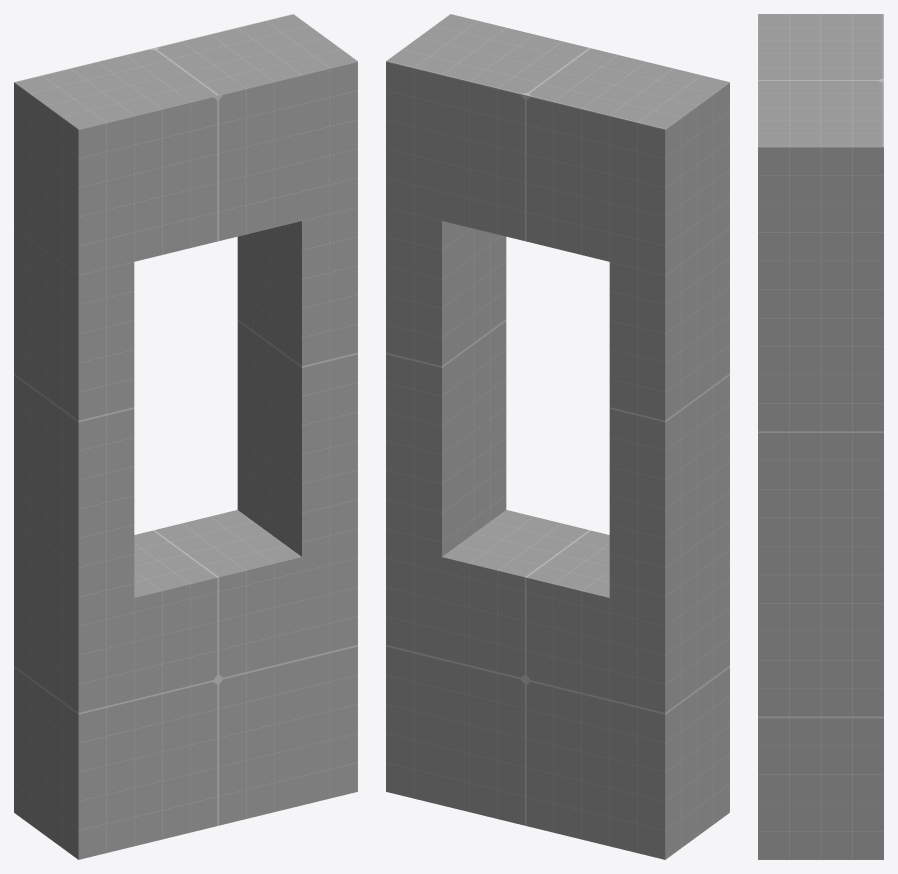
Rendered from Window_1x1_Thick.001.fbx.
3 views of the same model, side by side, from view 1: azimuth 30°, elevation 25°; view 2: azimuth 150°, elevation 25°; view 3: azimuth 270°, elevation 25° (orthographic). The views are drawn at different scales.
Parts seen in each view (by area): view 1: Window_1x1_Thick.001; view 2: Window_1x1_Thick.001; view 3: Window_1x1_Thick.001.
Part boxes in pixels (x1,y1,x2,y2): Window_1x1_Thick.001: (14, 14, 357, 859); Window_1x1_Thick.001: (386, 14, 729, 859); Window_1x1_Thick.001: (758, 14, 883, 859).
Bounding box in the file's own units: 100 × 250 × 40.
